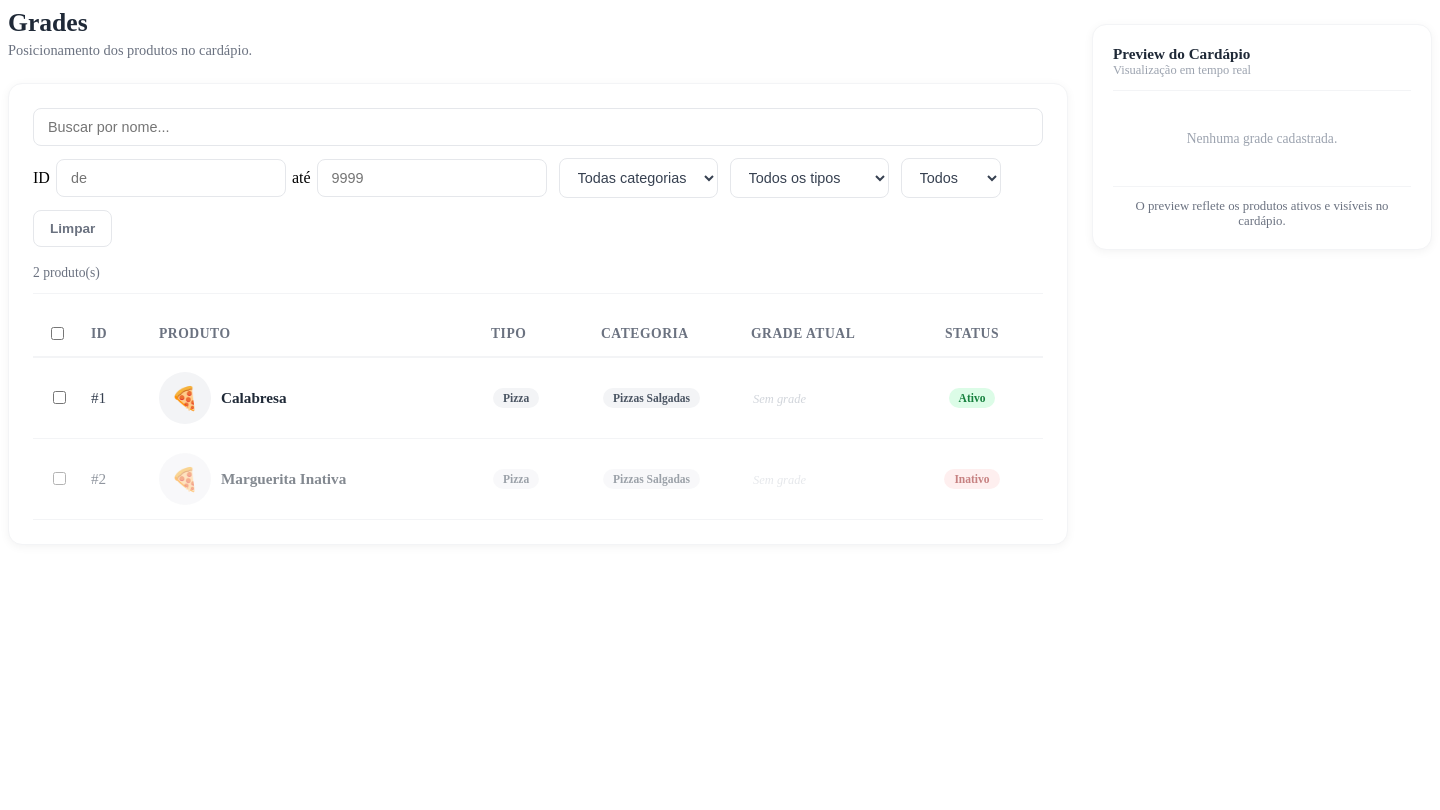
Test: AdminGrades › selecionar todos marca todos os produtos filtrados
expect the text "Calabresa" is shown: met, box left=221, top=389, right=286, bottom=406
Click the checkbox in the row of "Tipo". click: (58, 334)
box: left=51, top=327, right=64, bottom=340
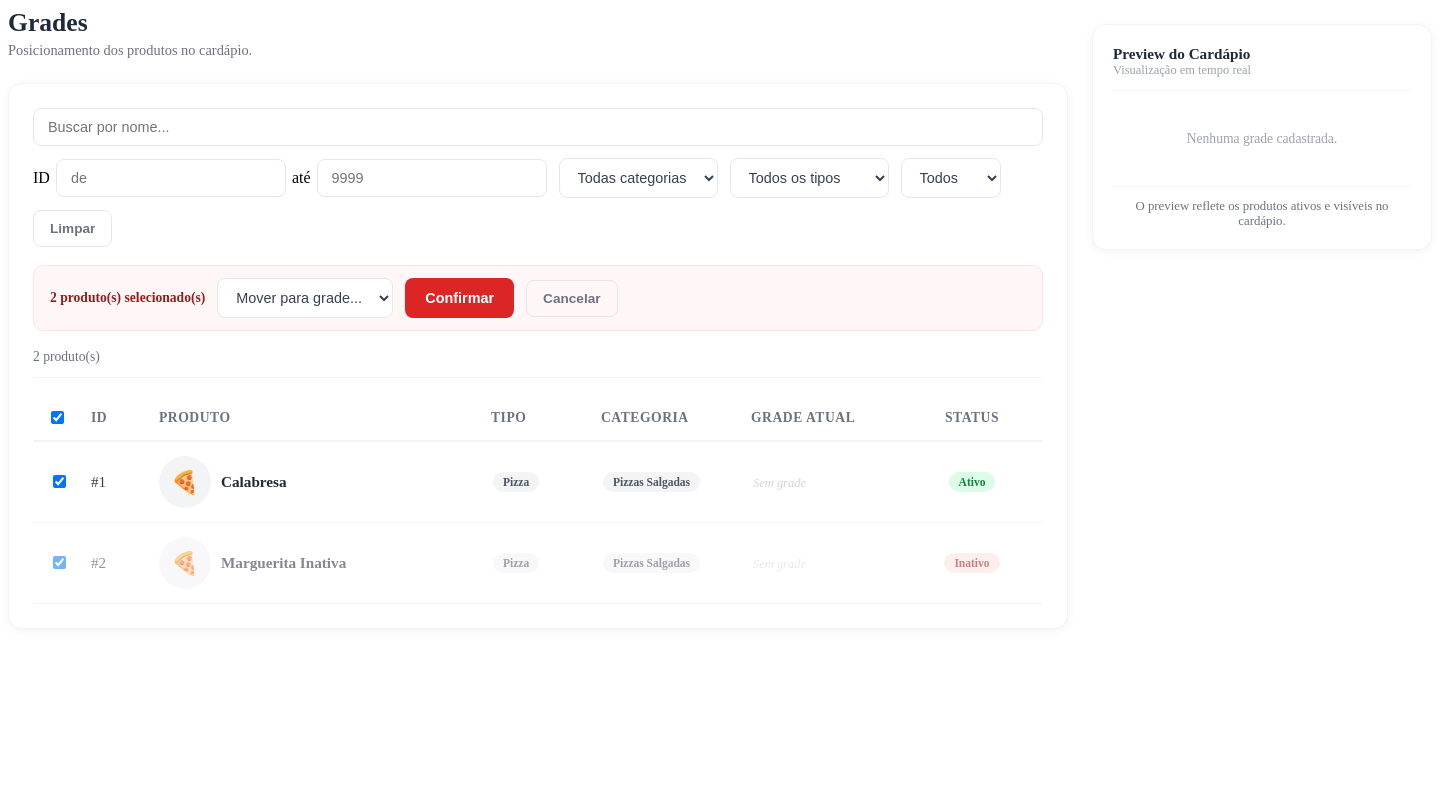
expect the text "2 produto(s) selecionado(s)" is shown: met, box left=50, top=290, right=205, bottom=306
